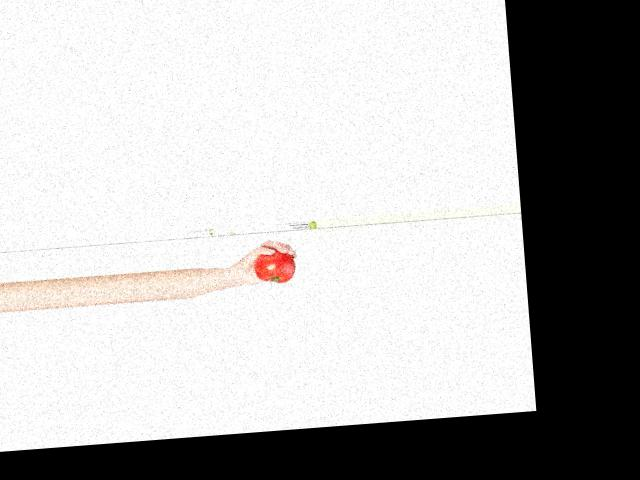tomato: (252, 248, 296, 285)
